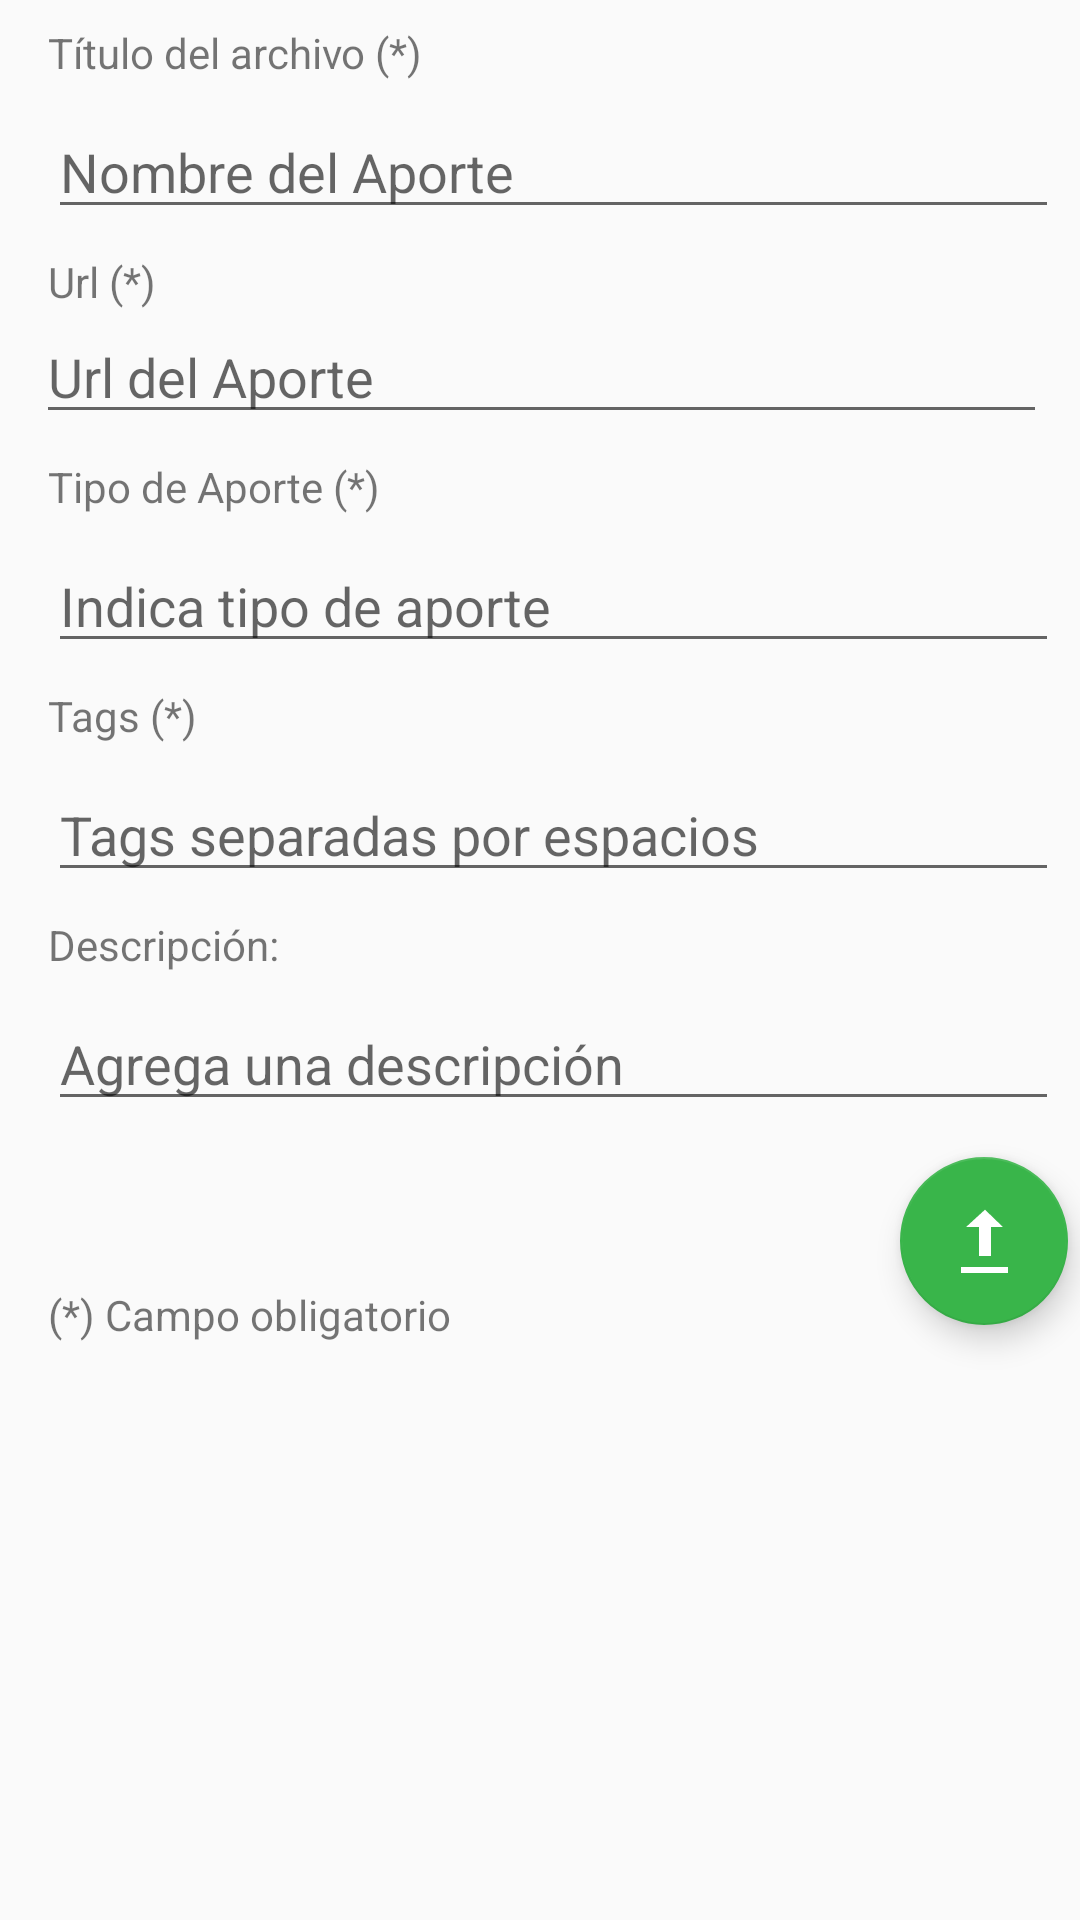

Icon click points for this 1080px x 1920px phone screenshot, format point (x, y):
upload: point (984, 1241)
